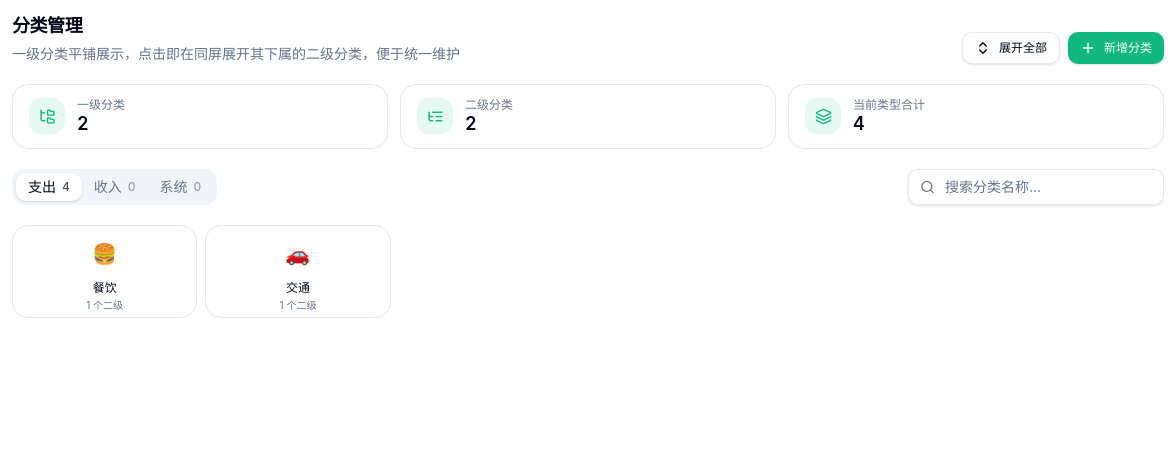
Test: 分类管理页 - 搜索结果 › 搜索无结果时显示提示
The width and height of the screenshot is (1176, 473).
Expected: the text "餐饮" is shown, [93,280,117,294]
Type "不存在的分类xyz" into the field with placeholder "搜索分类名称…".
click(1036, 186); type("不存在的分类xyz")  # box [908,168,1164,204]
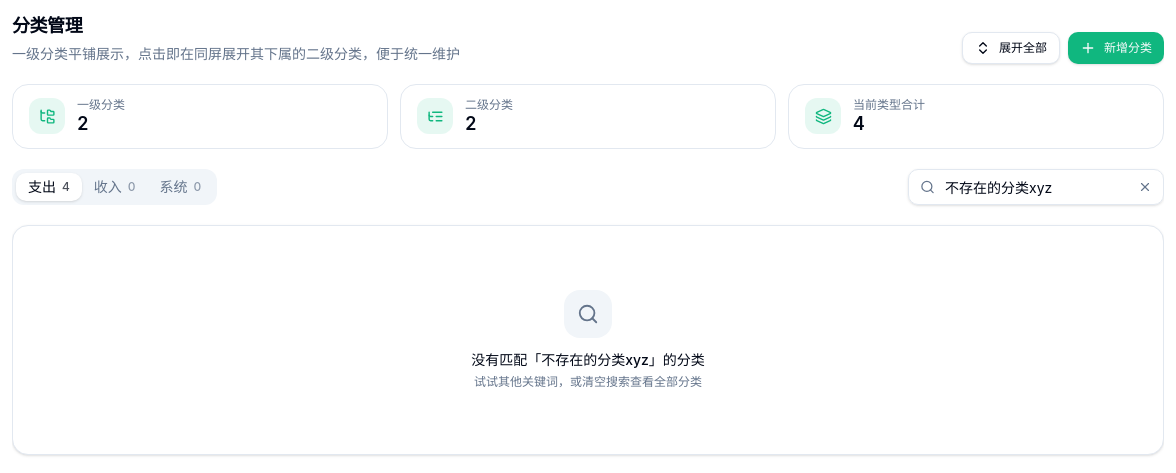
Expected: the text "没有匹配「不存在的分类xyz」的分类" is shown, [471,350,705,370]
